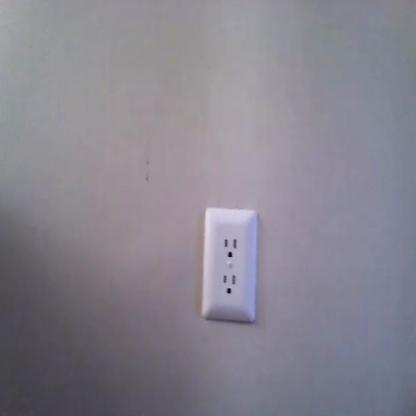OUTLET: (200, 208, 260, 323)
